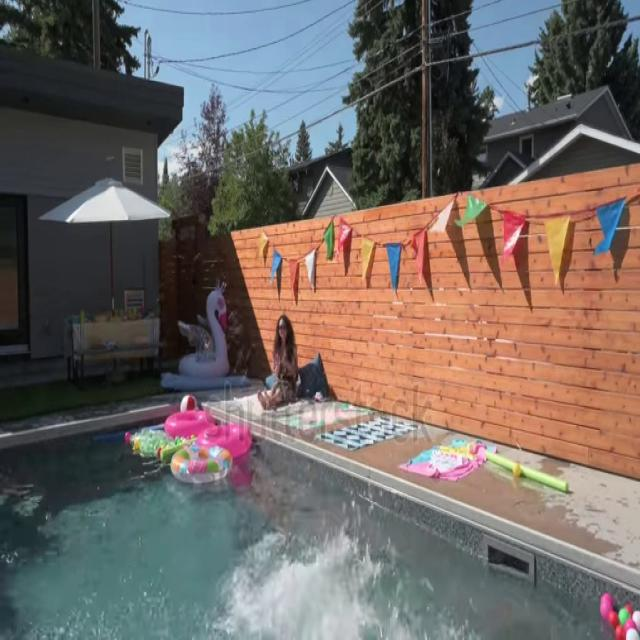adult: (264, 312, 298, 412)
